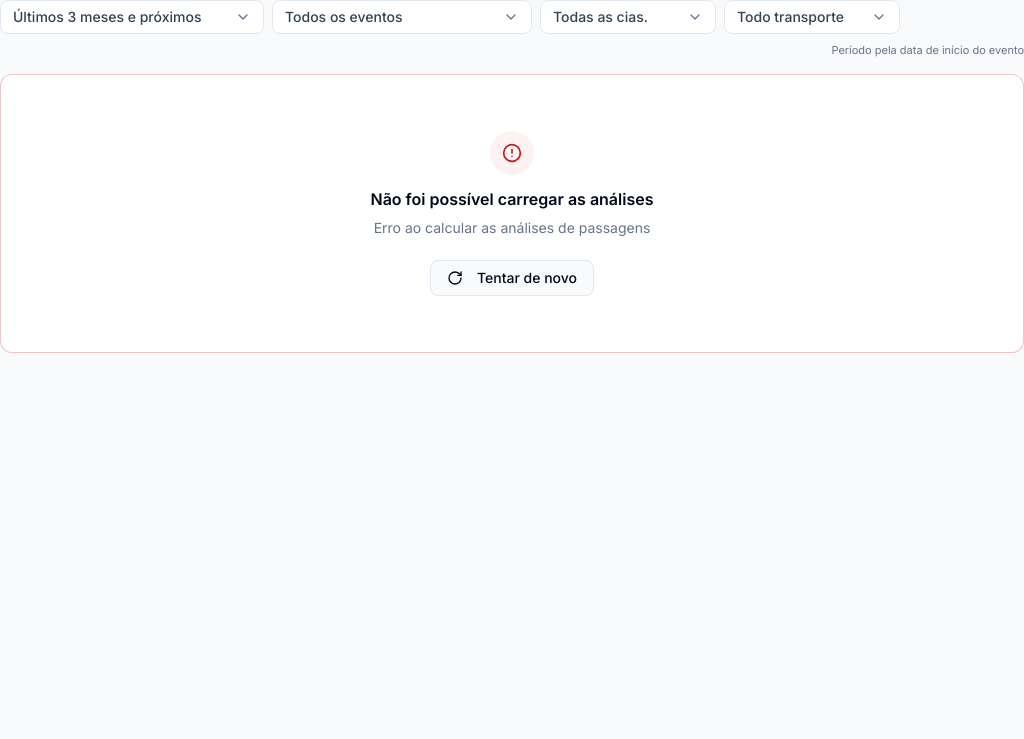
Test: AnalisesDePassagens › erro: alerta com 'Tentar de novo' que refaz a consulta
Expected: the message shows "Não foi possível carregar as análises", [370,189,654,209]
Click the button "Tentar de novo" at point(512, 278), box [430,260,594,296]
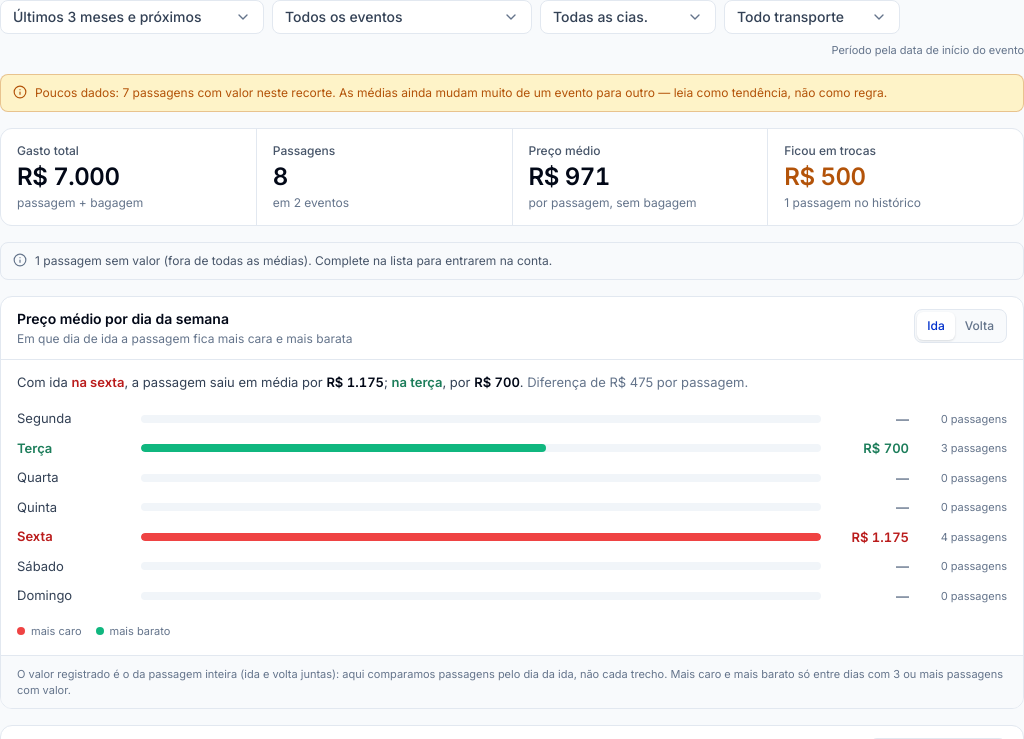
Expected: the element with test id "kpi-gasto" is shown, [1,129,256,225]
